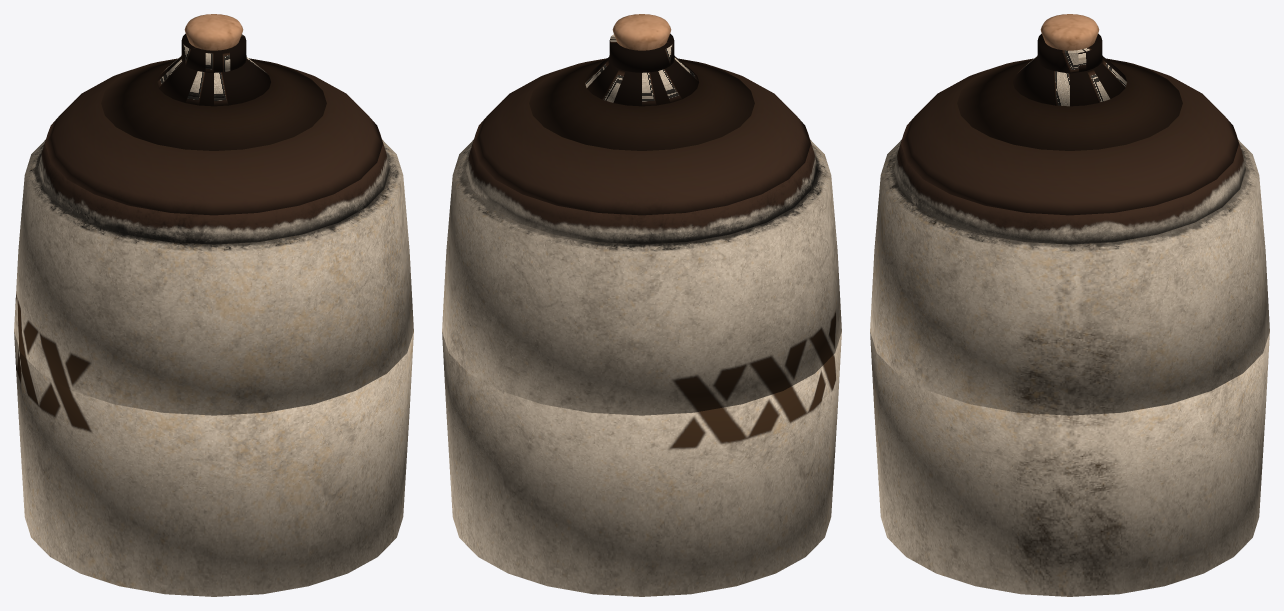
File: moonshine_phy.fbx
3 views of the same model, side by side, from view 1: azimuth 30°, elevation 25°; view 2: azimuth 150°, elevation 25°; view 3: azimuth 270°, elevation 25° (orthographic).
Parts seen in each view (by area): view 1: moonshine.005, moonshine.002, moonshine.006, moonshine.007, moonshine.008, moonshine.004, moonshine.001, moonshine.003; view 2: moonshine.005, moonshine.002, moonshine.006, moonshine.007, moonshine.008, moonshine.004, moonshine.001, moonshine.003; view 3: moonshine.005, moonshine.002, moonshine.006, moonshine.007, moonshine.008, moonshine.004, moonshine.001, moonshine.003.
Boxes of the visible parts, x1,y1,x2,y2 form: moonshine.005: (14, 332, 413, 596); moonshine.002: (14, 139, 413, 415); moonshine.006: (45, 62, 382, 215); moonshine.007: (101, 58, 326, 150); moonshine.008: (38, 128, 389, 244); moonshine.004: (157, 56, 270, 106); moonshine.001: (184, 14, 243, 50); moonshine.003: (181, 33, 246, 72); moonshine.005: (442, 332, 841, 596); moonshine.002: (442, 139, 841, 415); moonshine.006: (473, 62, 810, 215); moonshine.007: (529, 58, 754, 150); moonshine.008: (466, 128, 817, 244); moonshine.004: (585, 56, 698, 106); moonshine.001: (612, 14, 671, 50); moonshine.003: (609, 33, 674, 72); moonshine.005: (870, 332, 1269, 596); moonshine.002: (870, 139, 1269, 415); moonshine.006: (901, 62, 1238, 215); moonshine.007: (957, 58, 1182, 150); moonshine.008: (894, 128, 1245, 244); moonshine.004: (1013, 56, 1126, 106); moonshine.001: (1040, 14, 1099, 50); moonshine.003: (1037, 33, 1102, 73).
Size of the model in its own units: 45.57 by 62.47 by 45.57.
